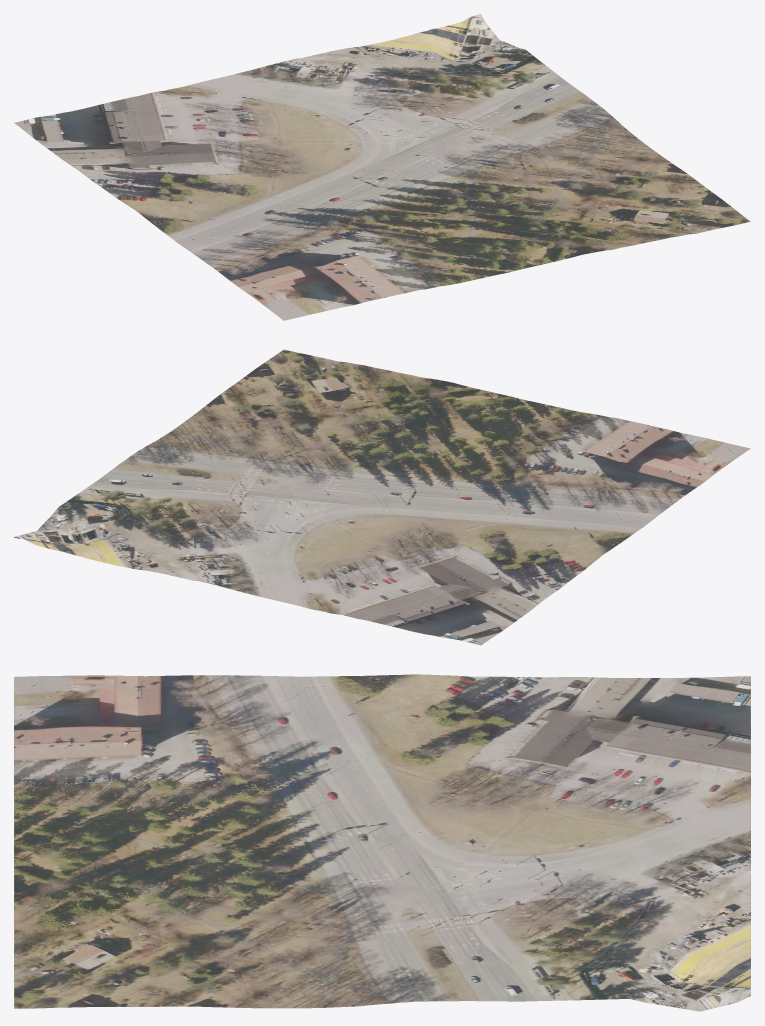
The model's file is CM_Terrain_24489844_6821432.fbx.
3 views of the same model, one above another, from view 1: azimuth 30°, elevation 25°; view 2: azimuth 150°, elevation 25°; view 3: azimuth 270°, elevation 25° (orthographic). The views are drawn at different scales.
Visible parts, largest first — view 1: CM_Terrain_24489844_6821432_LOD0; view 2: CM_Terrain_24489844_6821432_LOD0; view 3: CM_Terrain_24489844_6821432_LOD0.
Boxes of the visible parts, <box> form: CM_Terrain_24489844_6821432_LOD0: <box>14,14,750,320</box>; CM_Terrain_24489844_6821432_LOD0: <box>14,349,750,645</box>; CM_Terrain_24489844_6821432_LOD0: <box>14,674,750,1011</box>.
Size of what is drawn, in the model's own units: 205 by 9.54 by 205.
